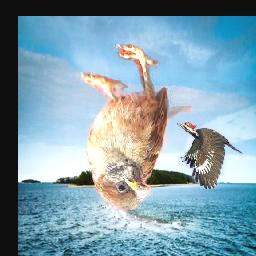Sparrow: (79, 44, 195, 210)
Woodpecker: (177, 121, 243, 189)
